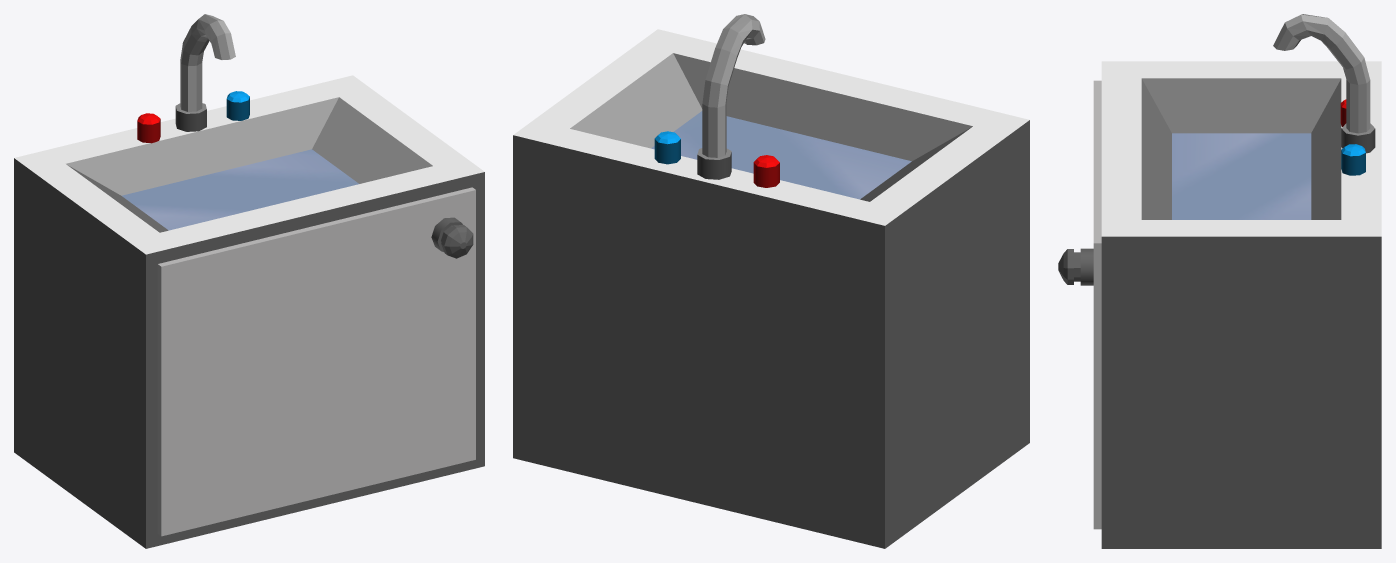
The model's file is Cabinet_Gray_Lower_Sink.fbx.
The picture shows the model from 3 angles, left to right: view 1: azimuth 30°, elevation 25°; view 2: azimuth 150°, elevation 25°; view 3: azimuth 270°, elevation 25°; orthographic projection. The views are drawn at different scales.
Parts seen in each view (by area): view 1: Cabinet_Gray_Lower_Sink, Cabinet_Gray_Lower_Sink.001; view 2: Cabinet_Gray_Lower_Sink; view 3: Cabinet_Gray_Lower_Sink, Cabinet_Gray_Lower_Sink.001.
Boxes of the visible parts, x1,y1,x2,y2 form: Cabinet_Gray_Lower_Sink: (14, 14, 484, 548); Cabinet_Gray_Lower_Sink.001: (157, 187, 475, 536); Cabinet_Gray_Lower_Sink: (513, 14, 1029, 548); Cabinet_Gray_Lower_Sink: (1101, 14, 1381, 548); Cabinet_Gray_Lower_Sink.001: (1058, 80, 1101, 529).
Bounding box in the file's own units: 100 × 118 × 77.83.
